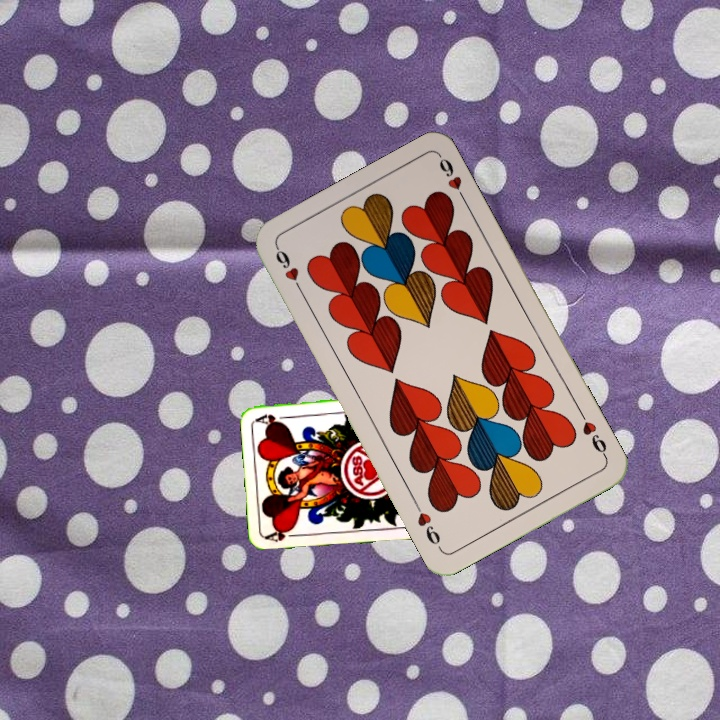H9: (575, 407, 610, 461), (271, 243, 306, 297)
HA: (263, 524, 304, 544)
